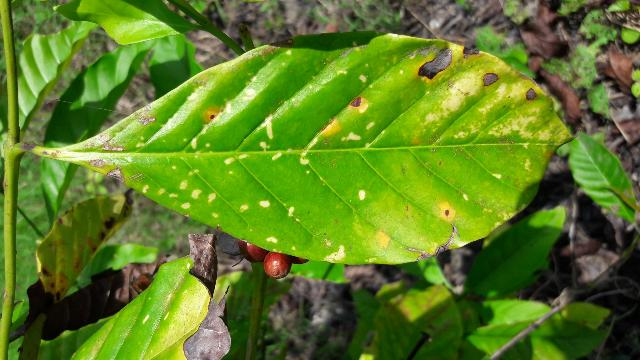rust_level_4: (87, 33, 559, 261)
